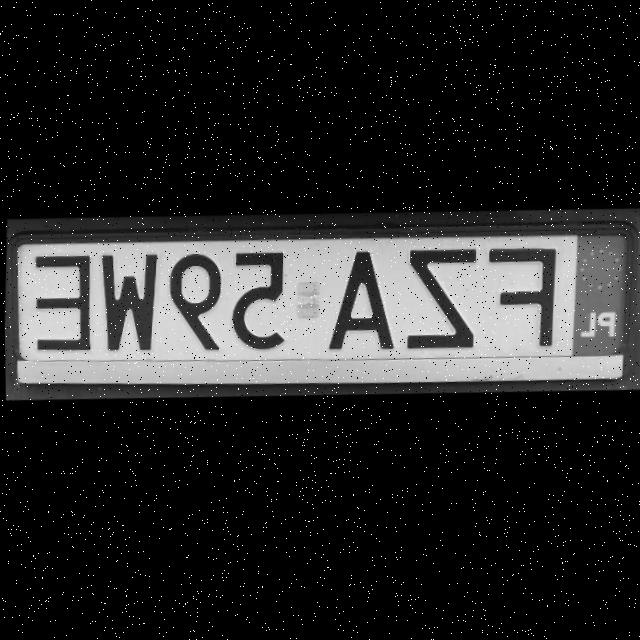license-plates: (574, 234, 627, 355)
